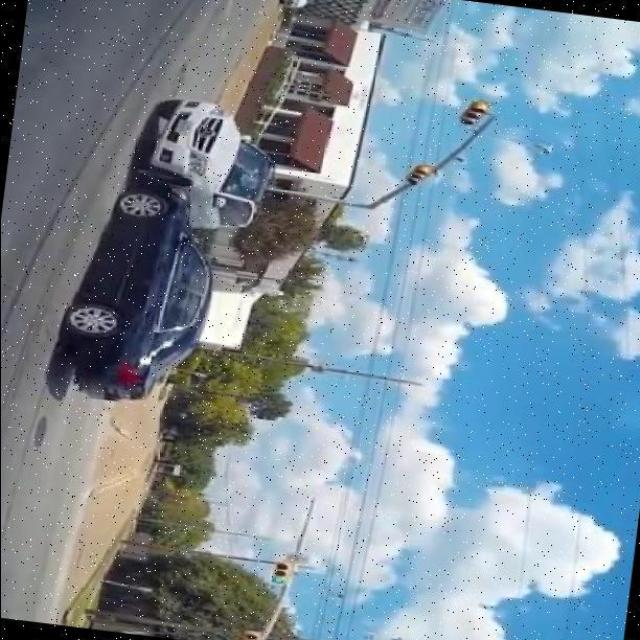accident: (37, 77, 291, 431)
